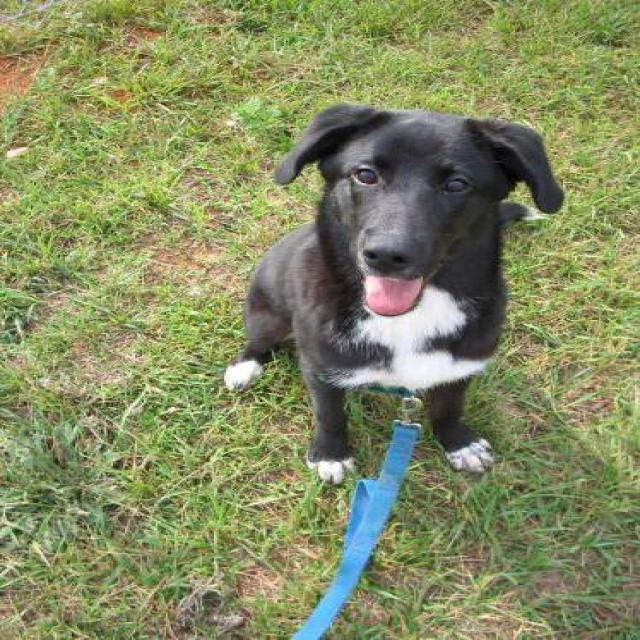dog: (222, 101, 564, 485)
